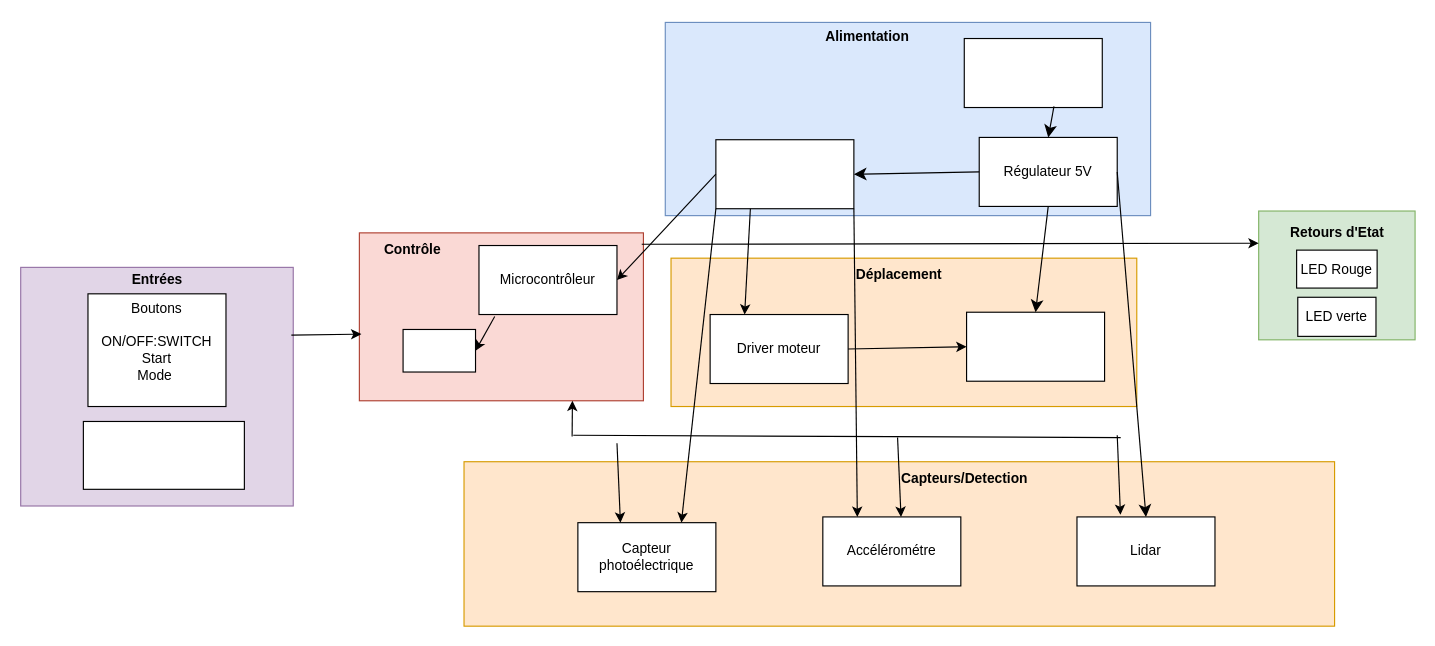
This 1435x646 diagram has some shape labels left out. Each missing label, with the centre of its shape:
"Batterie (7V)" belongs at point (1032, 72).
"Connecteurs:STLINK" belongs at point (163, 454).
"Moteur" belongs at point (1035, 346).
"Quartz" belongs at point (439, 350).
"Régulateur 3.3 V" belongs at point (784, 174).
